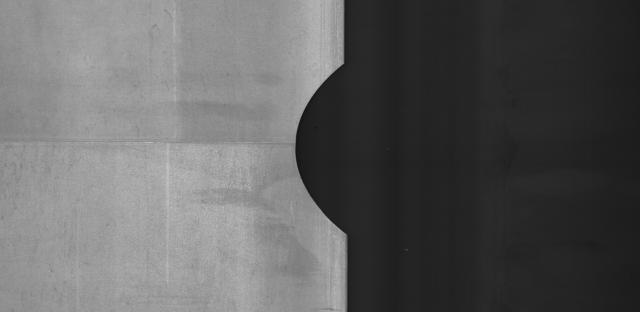crescent_gap: (287, 56, 371, 244)
welding_line: (3, 132, 306, 158)
